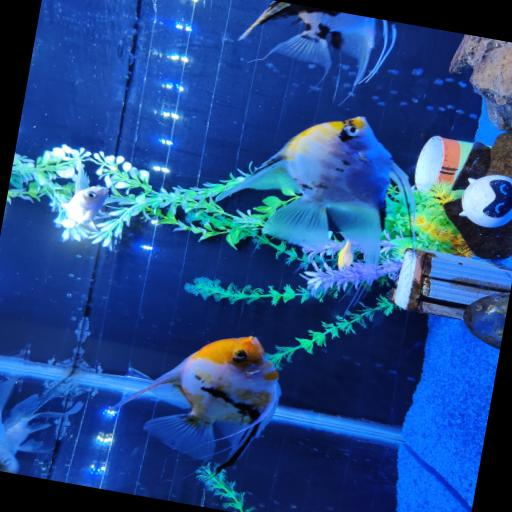Fish: (217, 116, 402, 263), (113, 336, 281, 471), (239, 1, 395, 96), (0, 378, 82, 473), (62, 169, 109, 229), (335, 237, 356, 271)
